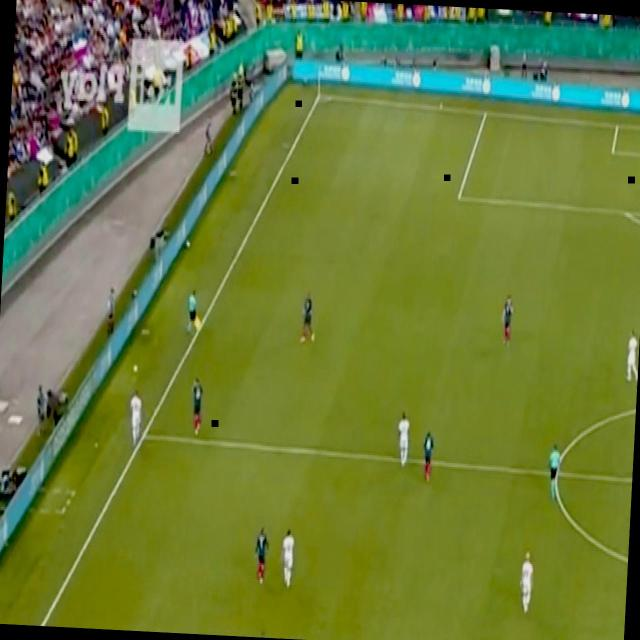ball: (184, 238, 192, 248), (132, 362, 138, 374)
player-white: (516, 549, 538, 615), (126, 387, 146, 448), (252, 524, 270, 588), (298, 290, 318, 347), (394, 408, 412, 469), (188, 376, 205, 436), (280, 527, 296, 590), (546, 443, 562, 501), (625, 326, 640, 385), (499, 295, 515, 349), (420, 430, 436, 484), (186, 288, 204, 336), (256, 628, 272, 638)
